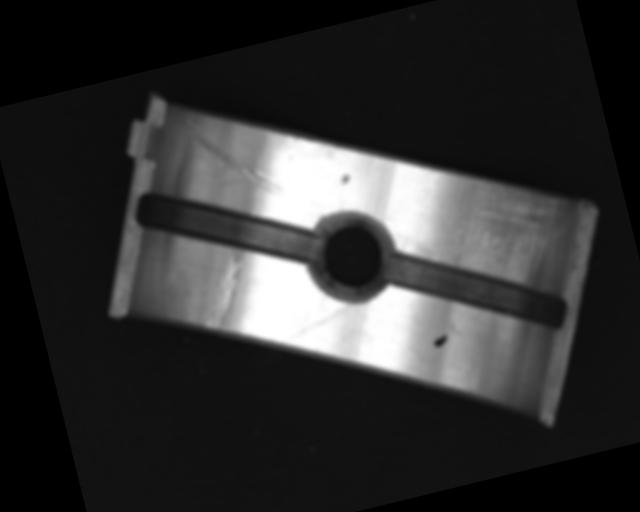blot: (431, 333, 450, 348)
bruise: (339, 173, 351, 185)
gap: (384, 220, 573, 365), (128, 158, 321, 298)
hole: (300, 205, 403, 311)
nick: (184, 97, 284, 210), (189, 248, 257, 333), (272, 302, 358, 345)
scratch: (435, 144, 585, 295)
